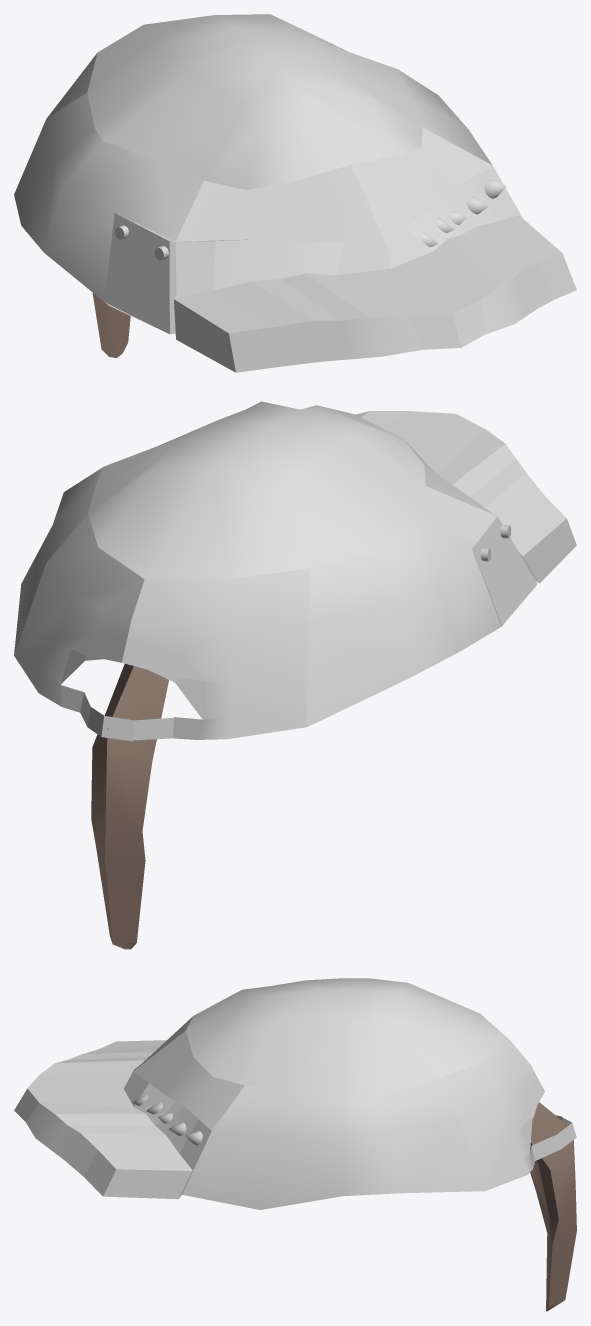
Rendered from hat.fbx.
3 renders of one model, top to bottom at view 1: azimuth 30°, elevation 25°; view 2: azimuth 150°, elevation 25°; view 3: azimuth 270°, elevation 25°, orthographic. The views are drawn at different scales.
Parts seen in each view (by area): view 1: pCylinder11; view 2: pCylinder11; view 3: pCylinder11.
Part boxes in pixels (x1,y1,x2,y2): pCylinder11: [14, 14, 576, 372]; pCylinder11: [14, 401, 576, 949]; pCylinder11: [14, 978, 576, 1311].
Bounding box in the file's own units: 0.3377 × 0.3237 × 0.5116.
